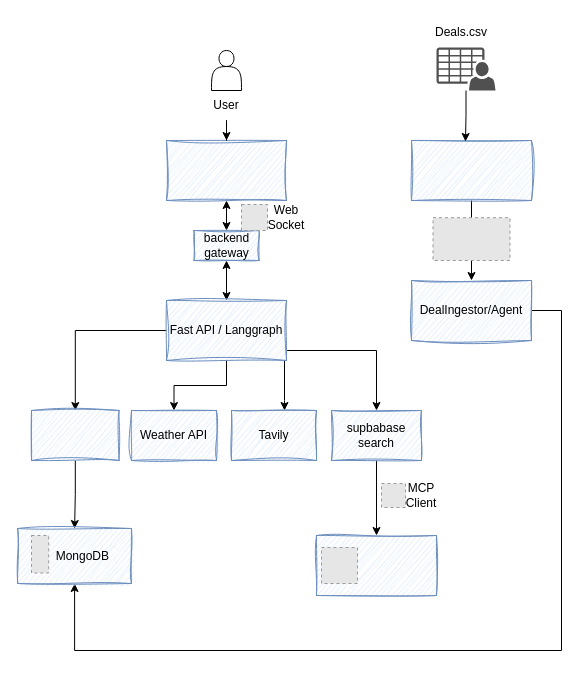
This 587x676 diagram has some shape labels left out. Grey dashed boxes stand in for pictures. The shapes that lost their labels are listed below. From the top down, each one's box as (x1, y1, x2, y2) in pixels, then its label:
(166, 140, 286, 200): Frontend Agent booking / Chat
(410, 140, 532, 200): Watcher
(30, 410, 119, 460): Mongo search
(316, 534, 436, 596): Postgres
